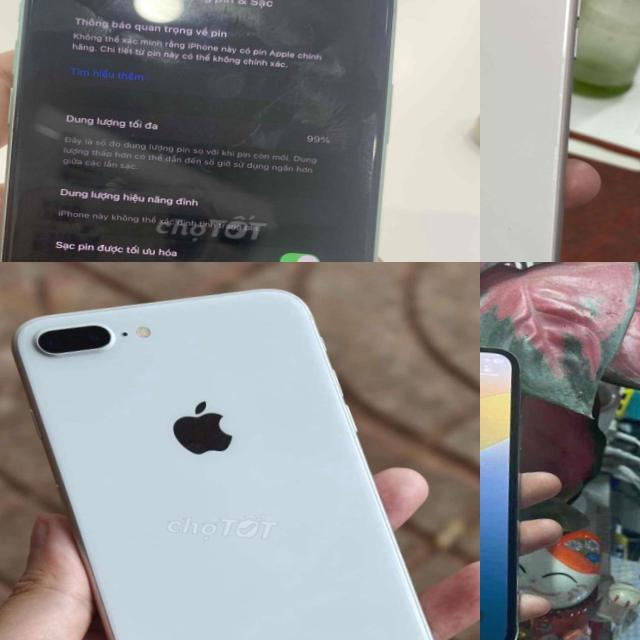gen_11: (0, 0, 408, 262), (480, 0, 597, 262)
gen_7_8: (0, 264, 480, 640)
gen_x_xs: (480, 335, 547, 640)
scratch: (194, 74, 290, 182)
